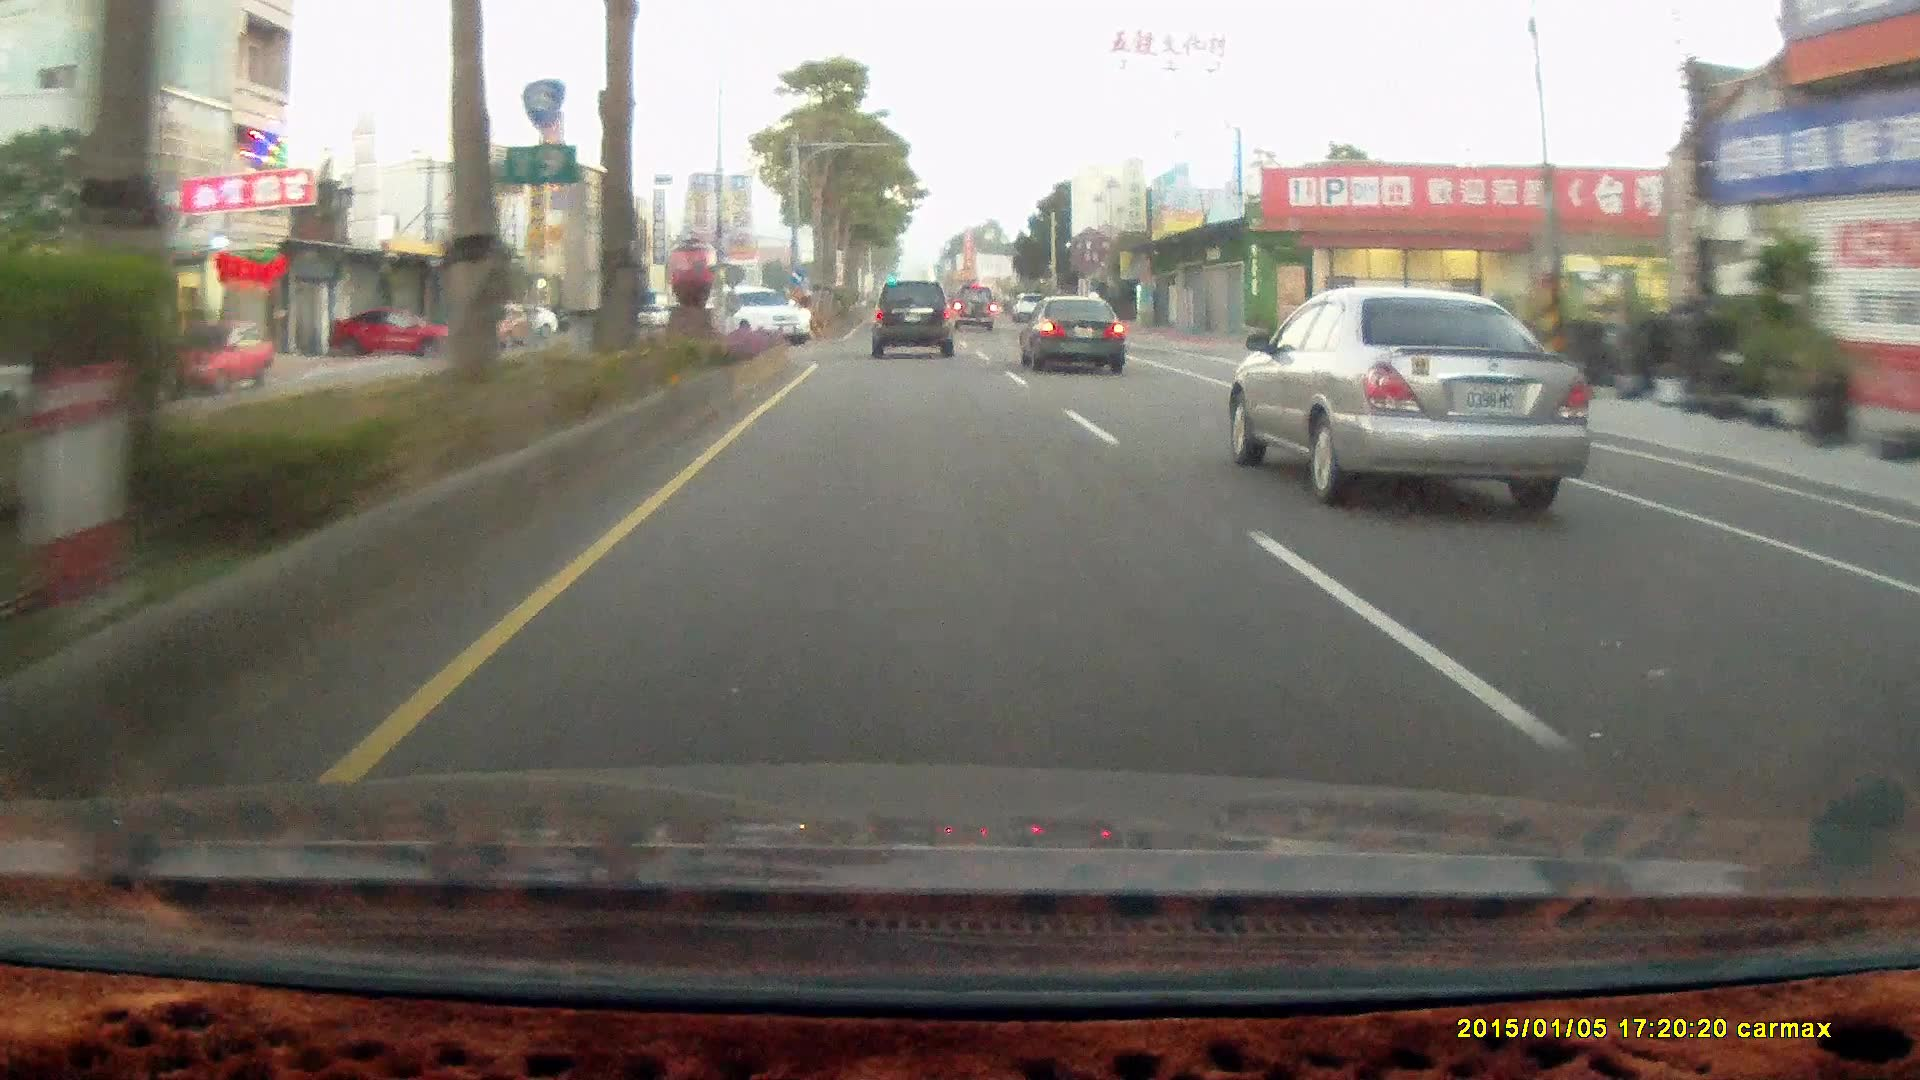vehicle: (1238, 282, 1589, 502), (1015, 289, 1129, 375), (146, 320, 272, 393), (1015, 294, 1124, 372), (322, 305, 472, 357), (872, 280, 961, 363), (328, 305, 462, 357), (869, 280, 952, 357), (712, 285, 814, 348), (727, 282, 814, 344), (949, 284, 997, 334), (949, 284, 997, 331)
